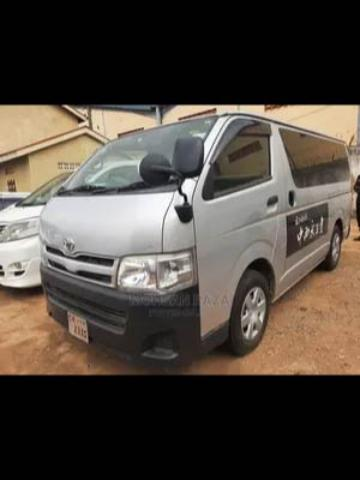van: (37, 110, 352, 366)
